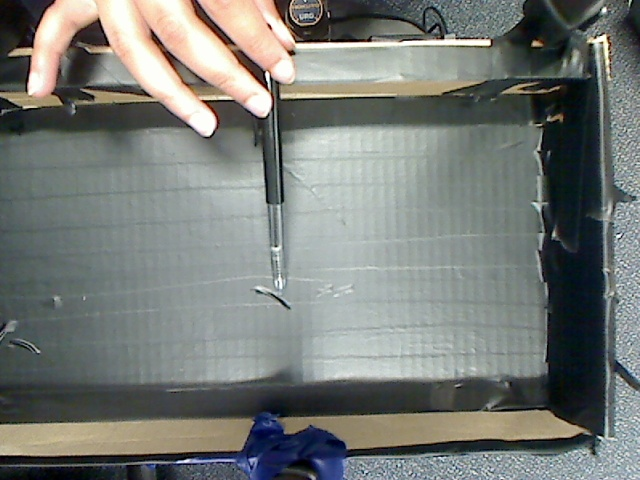w: (246, 16, 298, 307)
